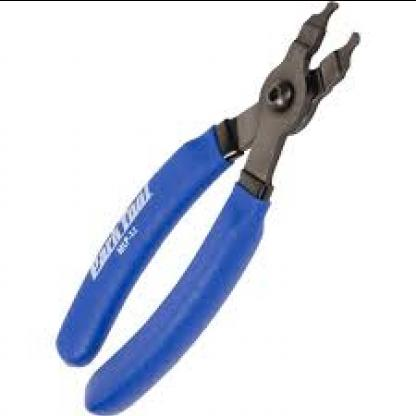Pliers: (48, 0, 366, 414)
